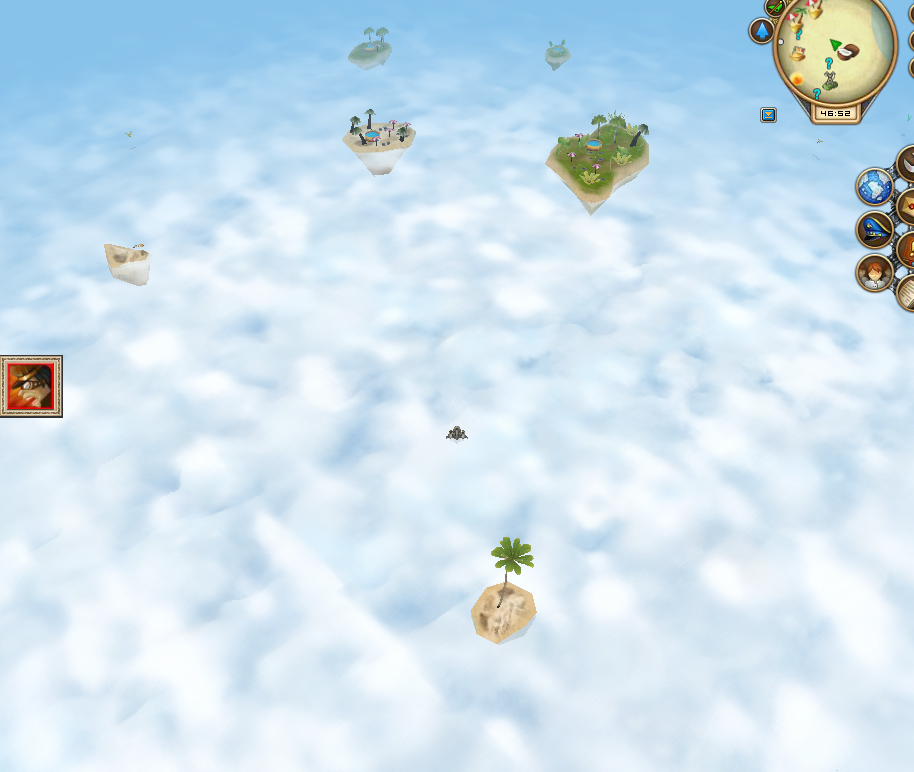dandelion-empty: (463, 532, 545, 648)
